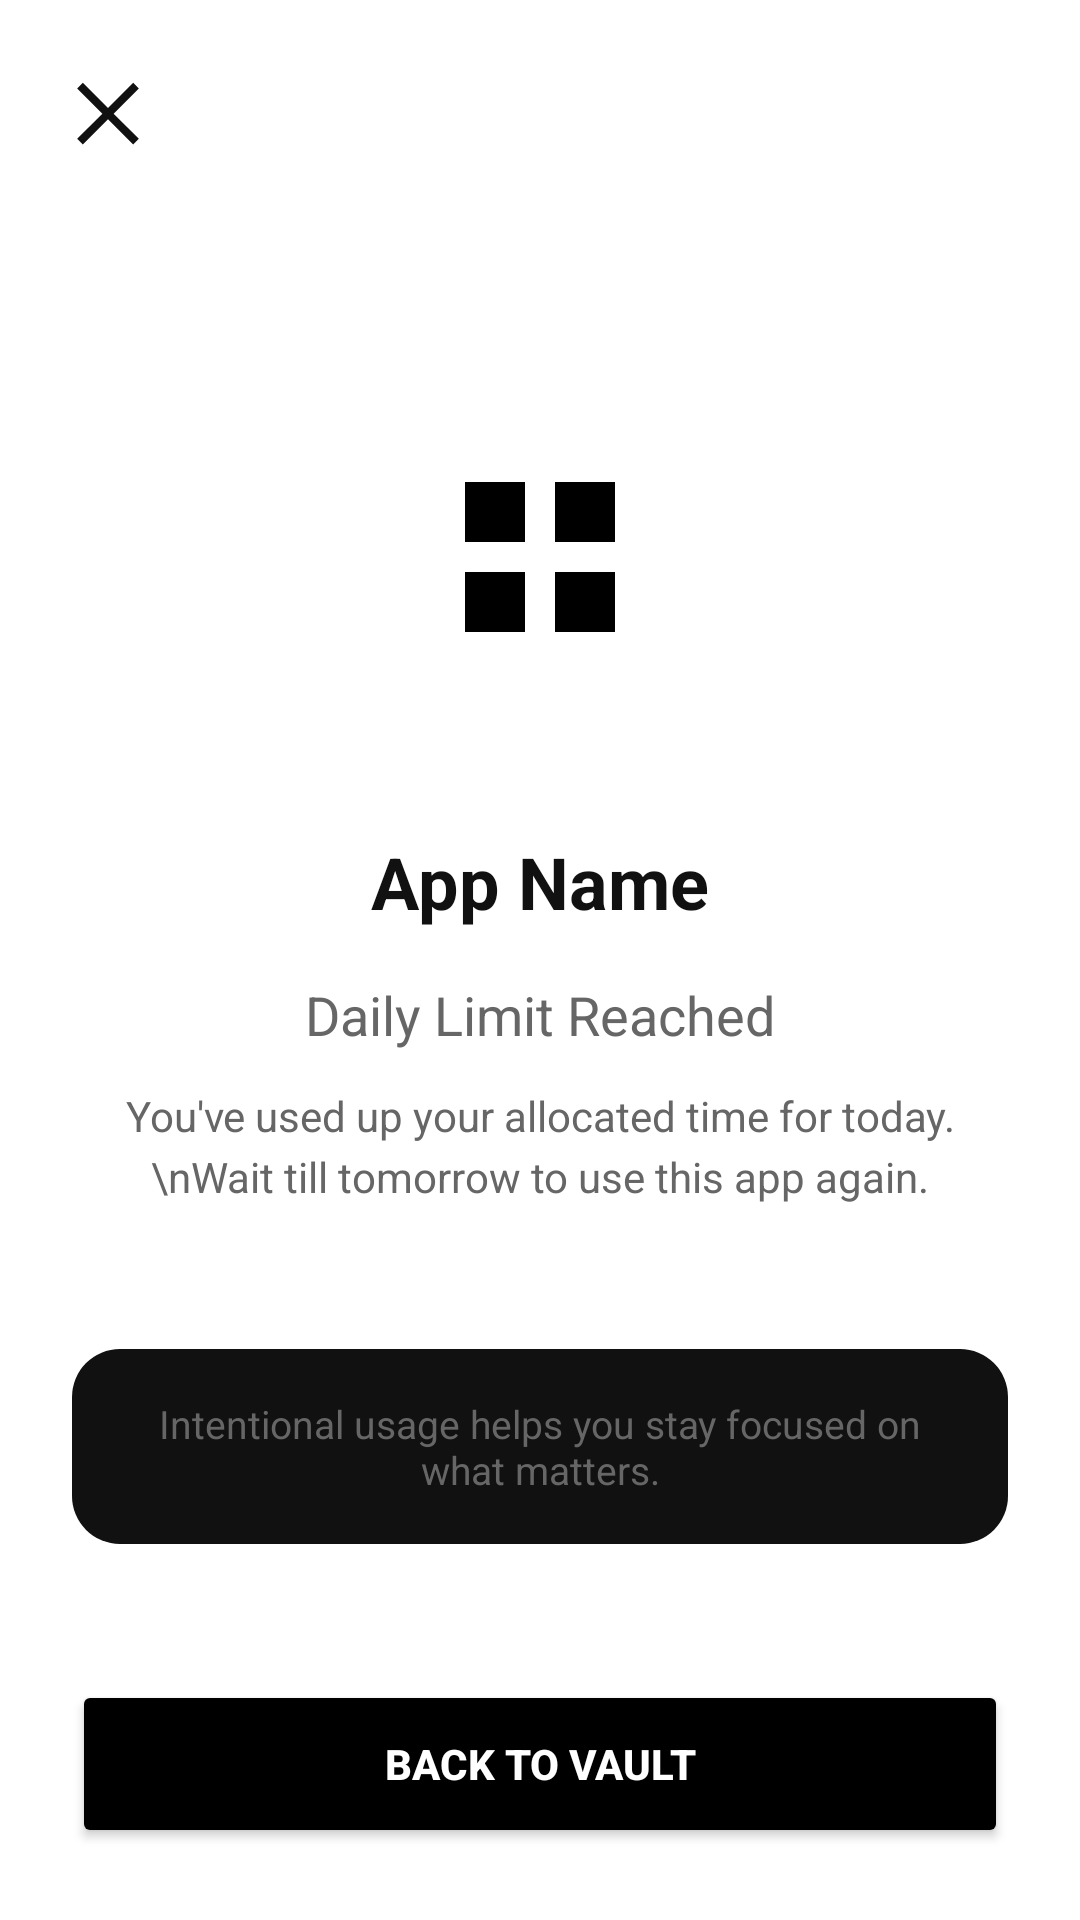

Where to tap for icons on this 1080×1920 app screen, as (x,y):
Close: (108,114)
